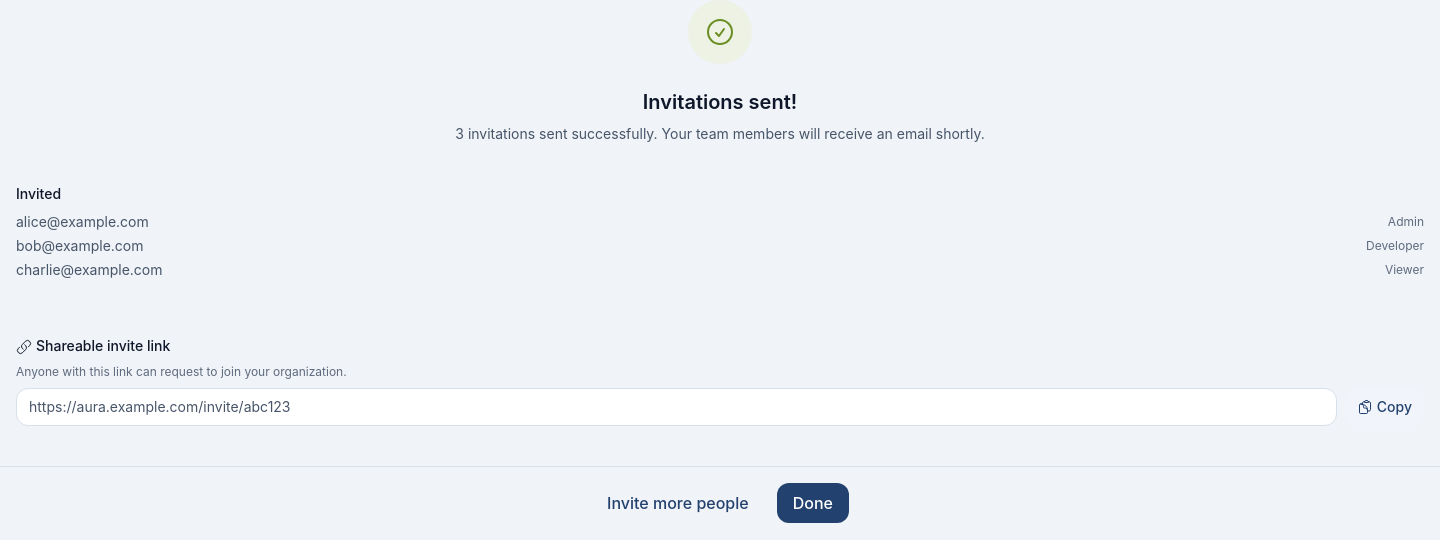
it: InviteCompletionStep › Copy Functionality › shows "Copied!" text after copying
The width and height of the screenshot is (1440, 540).
Click the button "Copy": point(1384, 407) [1345, 389, 1424, 425]
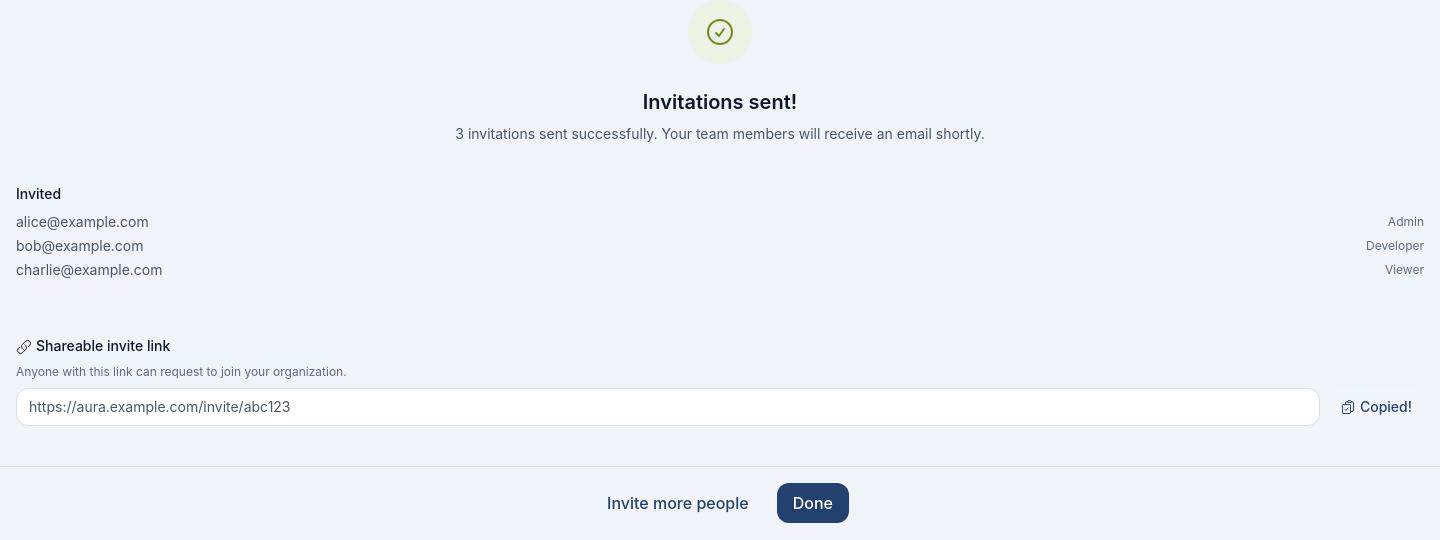
Expected: the button "Copied!" is shown, [1328, 389, 1424, 425]
